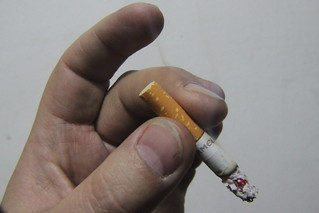cigarette: (137, 79, 260, 204)
